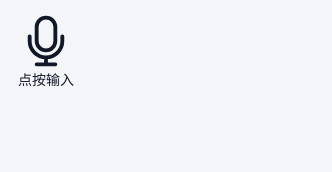
Test case: keeps tap dictation active through preparation and does not treat blur as completion
The image size is (332, 172).
Later steps or results of the test are not shown.
Click the button with aria-label "点按开始语音输入要求" at {"x": 46, "y": 52}, box left=12, top=12, right=80, bottom=91
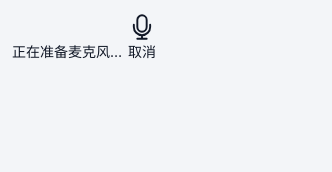
Leave the button named "点按开始语音输入要求", box left=122, top=12, right=162, bottom=63
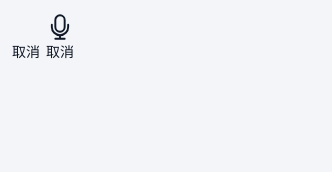
Expected: the button with aria-label "取消语音输入要求" has class "active", left=40, top=12, right=80, bottom=63
